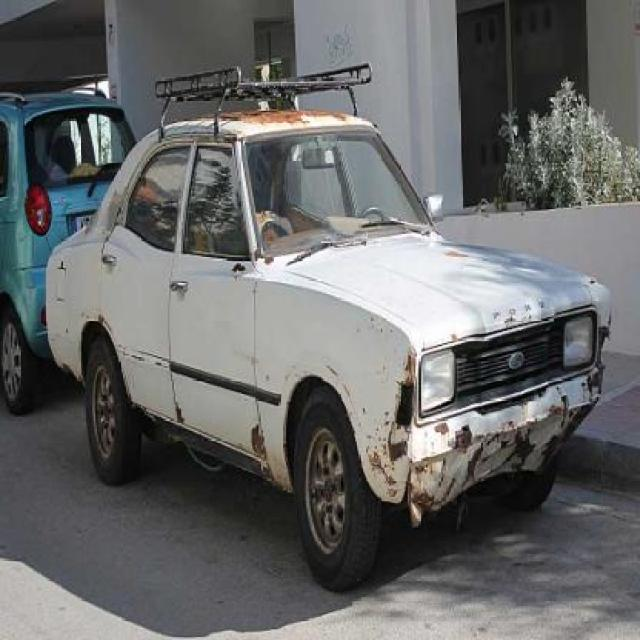corrosion: (40, 80, 612, 582)
